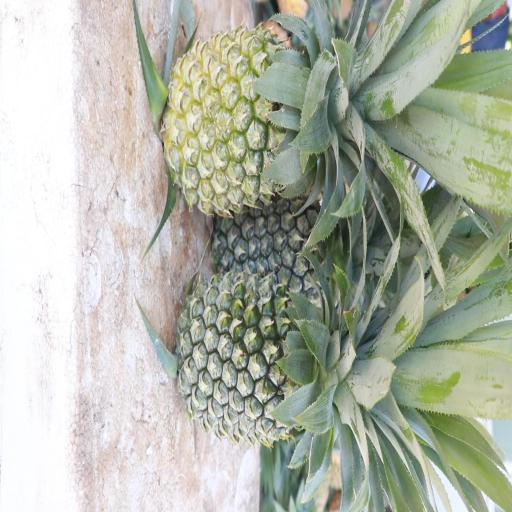Pineapple - v8 v1: (166, 19, 339, 207)
